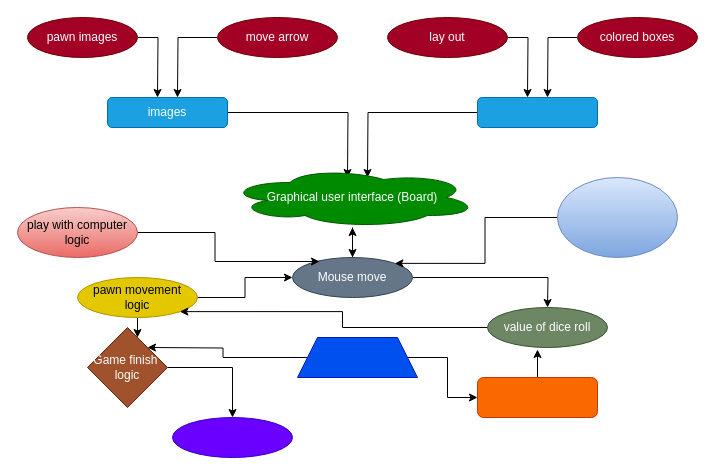
Image size: 715x475. Some labels were removed from this diagram. The centre of each missing label's shape, as x and y in pixels:
GIFS: (x=537, y=112)
No of roll logic: (x=537, y=397)
play with human logic: (x=617, y=217)
player turn logic: (x=357, y=357)
winner: (x=232, y=437)
